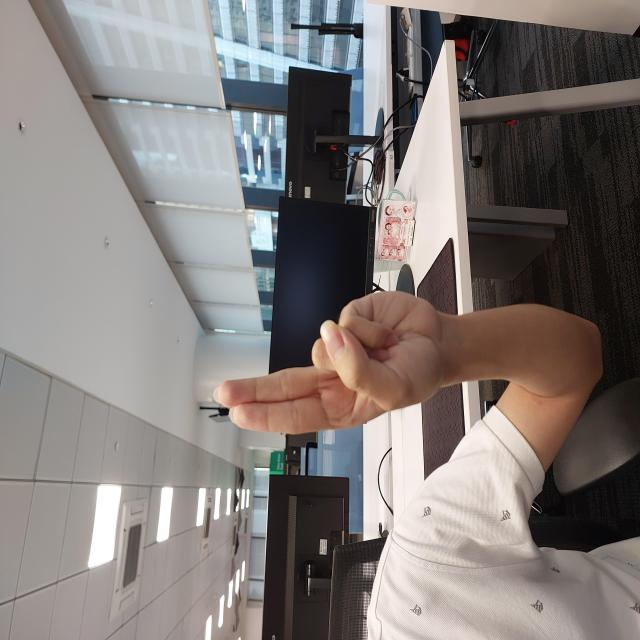U: (202, 212, 350, 446)
